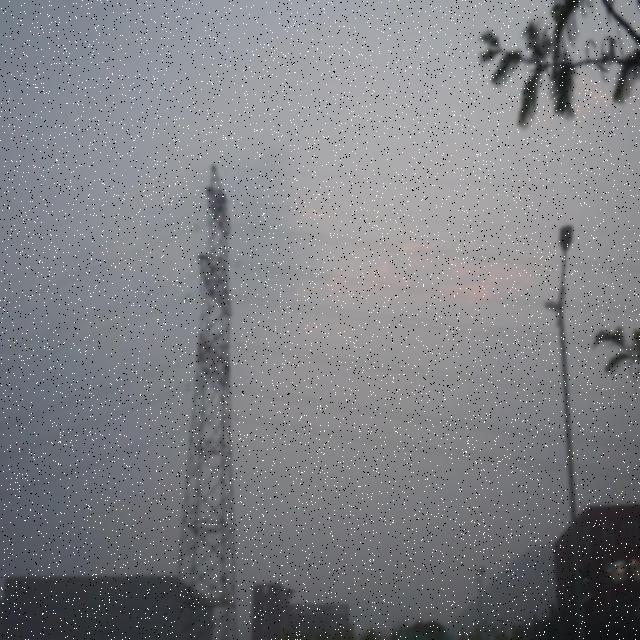UAV: (283, 588, 296, 598)
